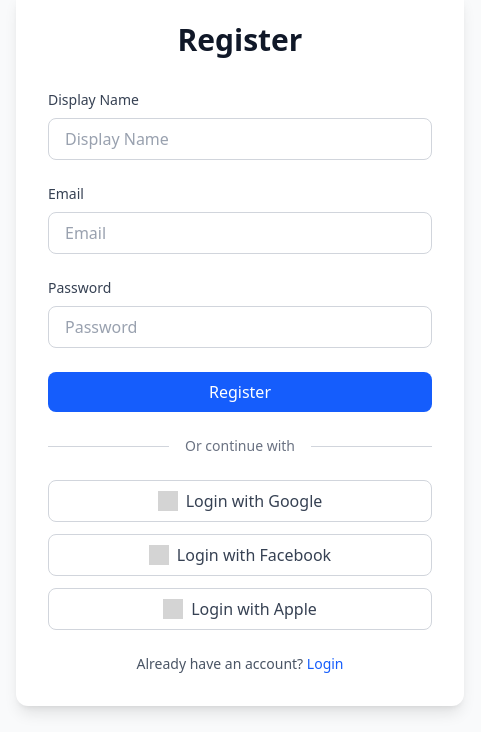
Scenario: Register Page › should show error for short password
Type "John Doe" into the field with placeholder "Display Name".
click(240, 139); type("John Doe")  # box [48,118,432,160]
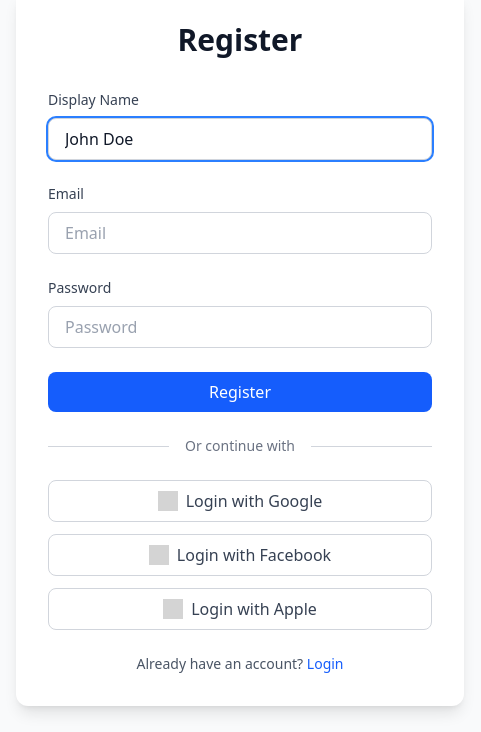
Type "john@example.com" into the field with placeholder "Email".
click(240, 233); type("john@example.com")  # box [48,212,432,254]
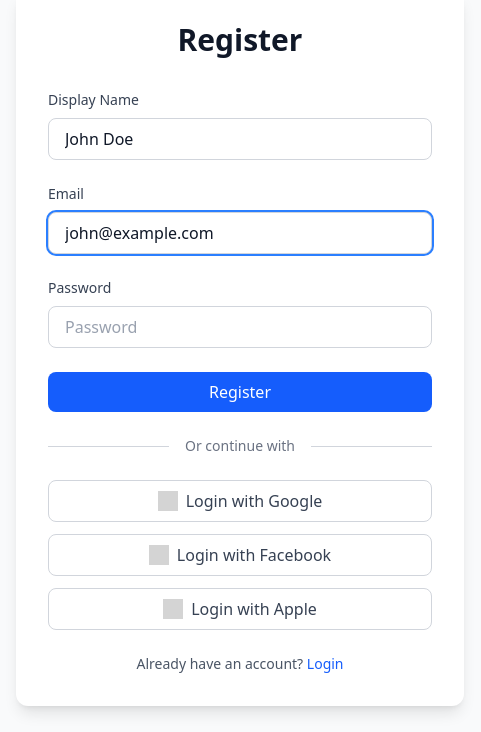
Type "12345" into the password field with placeholder "Password".
click(240, 327); type("12345")  # box [48,306,432,348]
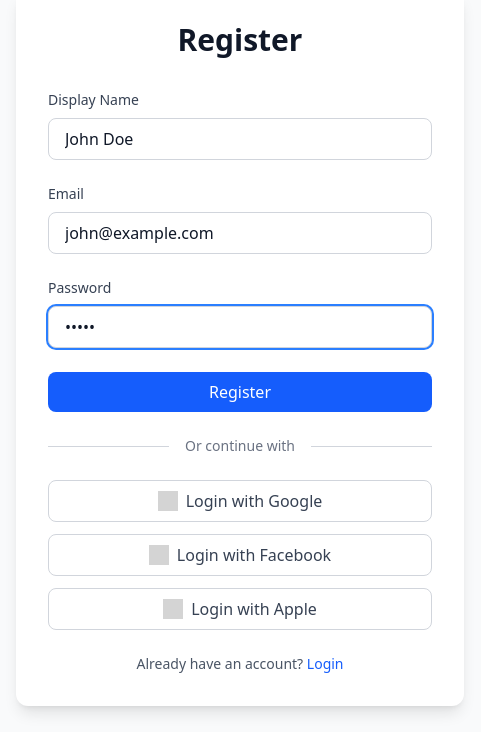
Click the submit button.
click(240, 392)  # box [48,372,432,412]
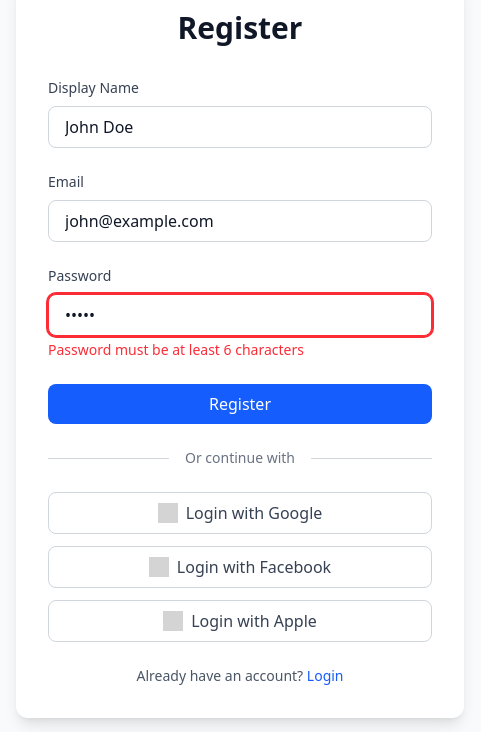
Expected: the text "Password must be at least 6 characters" is shown, [48,340,304,359]
